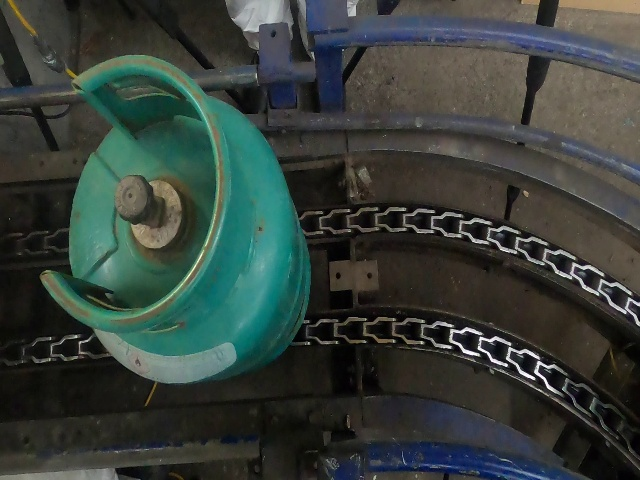gas_bottle: (2, 4, 640, 479)
